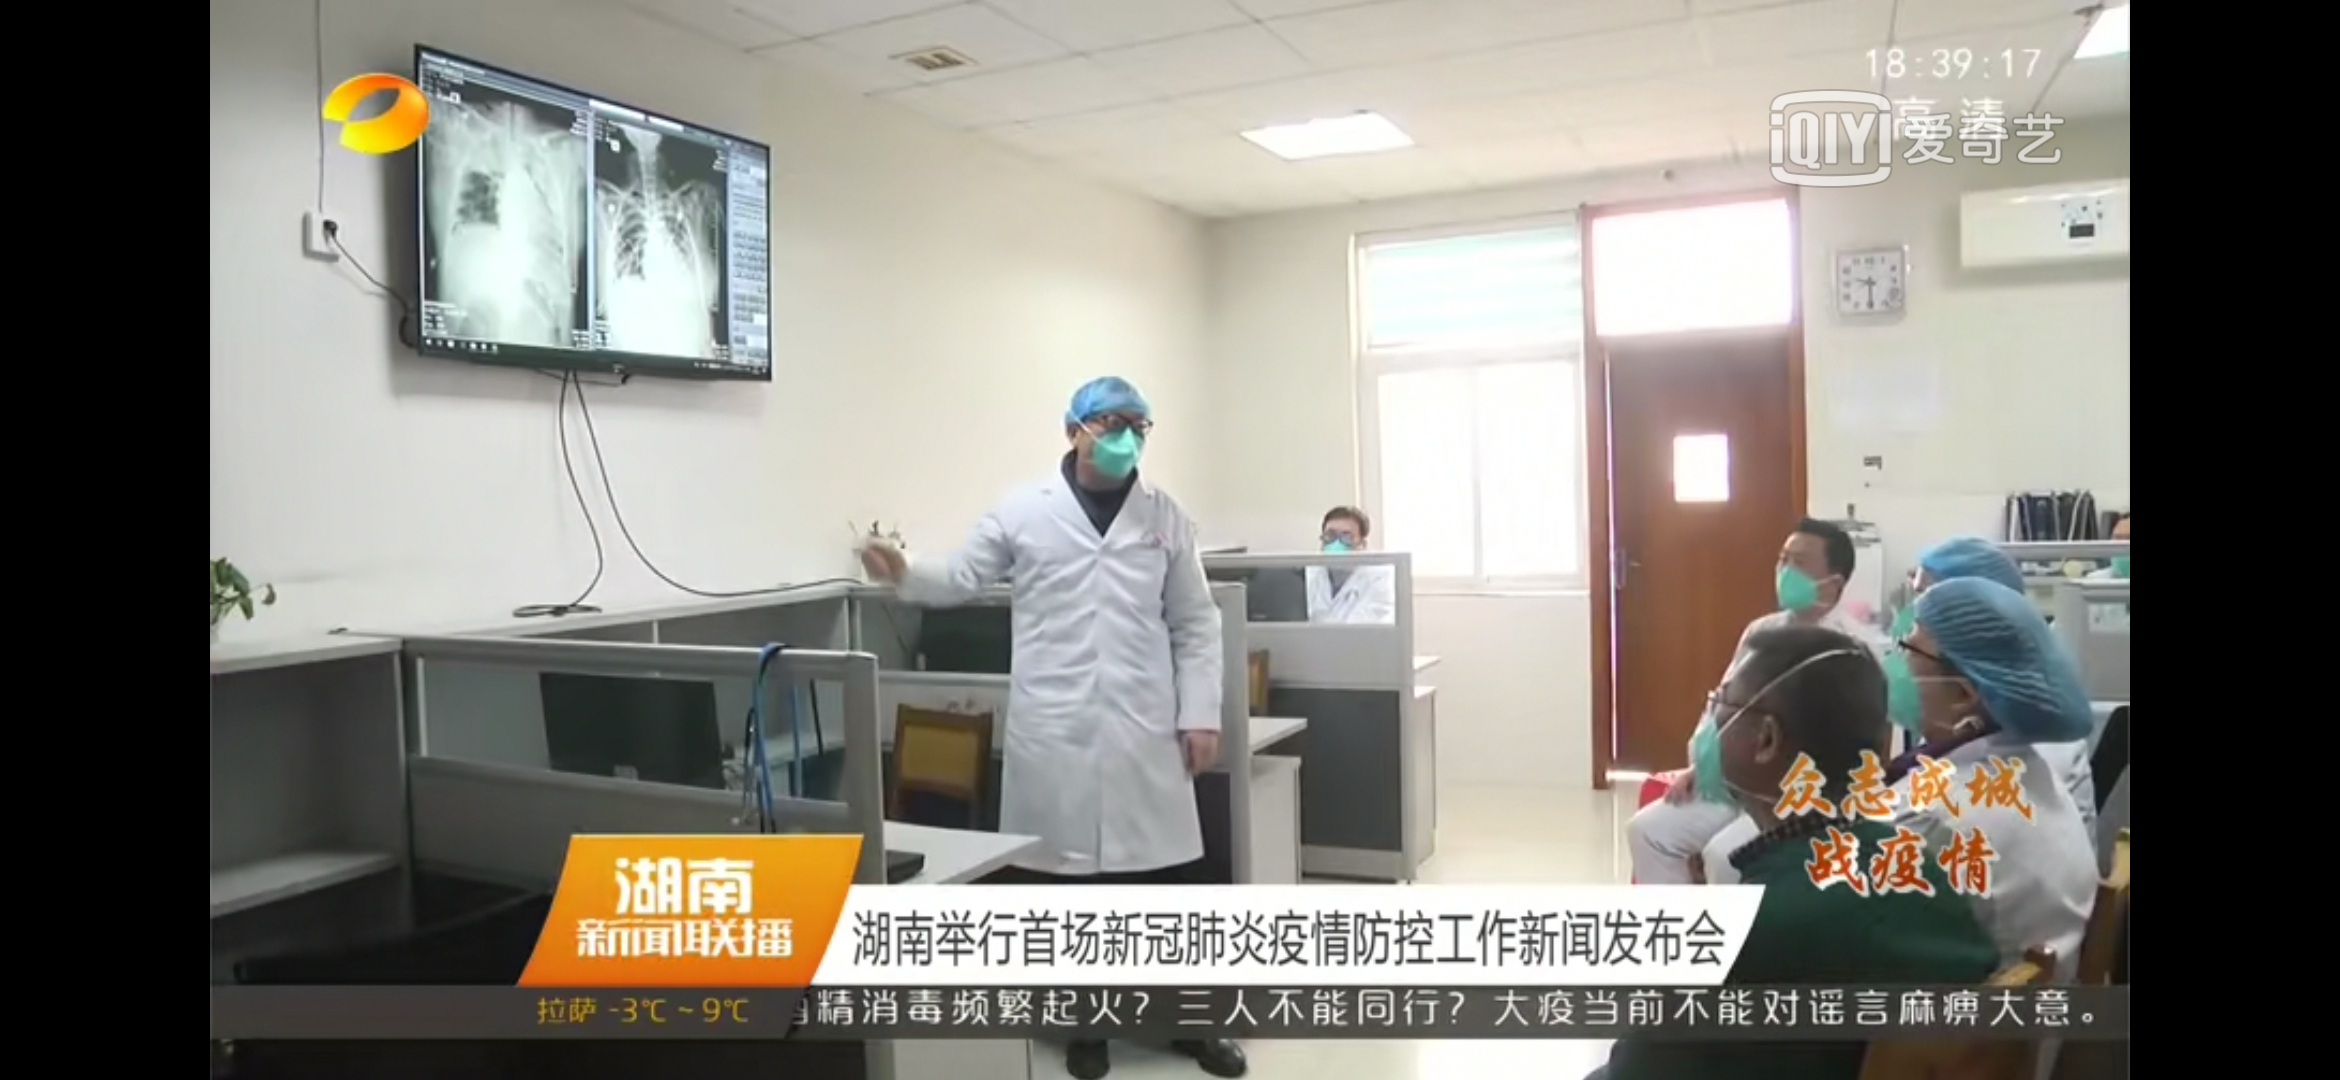correctlyWear: (1682, 679, 1788, 810), (1886, 622, 1956, 746), (1072, 410, 1152, 485), (1777, 541, 1842, 619), (1321, 524, 1368, 568)
